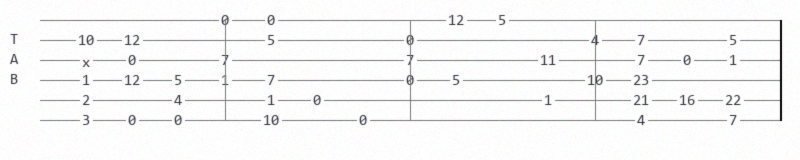0: (128, 113, 140, 127), (128, 53, 140, 67), (174, 113, 186, 127), (221, 13, 233, 27), (267, 13, 279, 27), (313, 93, 325, 107), (359, 113, 371, 127), (406, 73, 418, 87), (406, 33, 418, 47), (683, 53, 695, 67)
1: (82, 73, 94, 87), (221, 73, 233, 87), (267, 93, 279, 107), (544, 93, 556, 107), (729, 53, 741, 67)
10: (78, 33, 98, 47), (263, 113, 283, 127), (587, 73, 607, 87)
11: (540, 53, 560, 67)
12: (124, 33, 144, 47), (124, 73, 144, 87), (448, 13, 468, 27)
16: (679, 93, 699, 107)
2: (82, 93, 94, 107)
21: (633, 93, 653, 107)
22: (725, 93, 745, 107)
23: (633, 73, 653, 87)
3: (82, 113, 94, 127)
4: (174, 93, 186, 107), (591, 33, 603, 47), (637, 113, 649, 127)
5: (174, 73, 186, 87), (267, 33, 279, 47), (452, 73, 464, 87), (498, 13, 510, 27), (729, 33, 741, 47)
7: (221, 53, 233, 67), (267, 73, 279, 87), (406, 53, 418, 67), (637, 53, 649, 67), (637, 33, 649, 47), (729, 113, 741, 127)
x: (82, 55, 94, 66)
